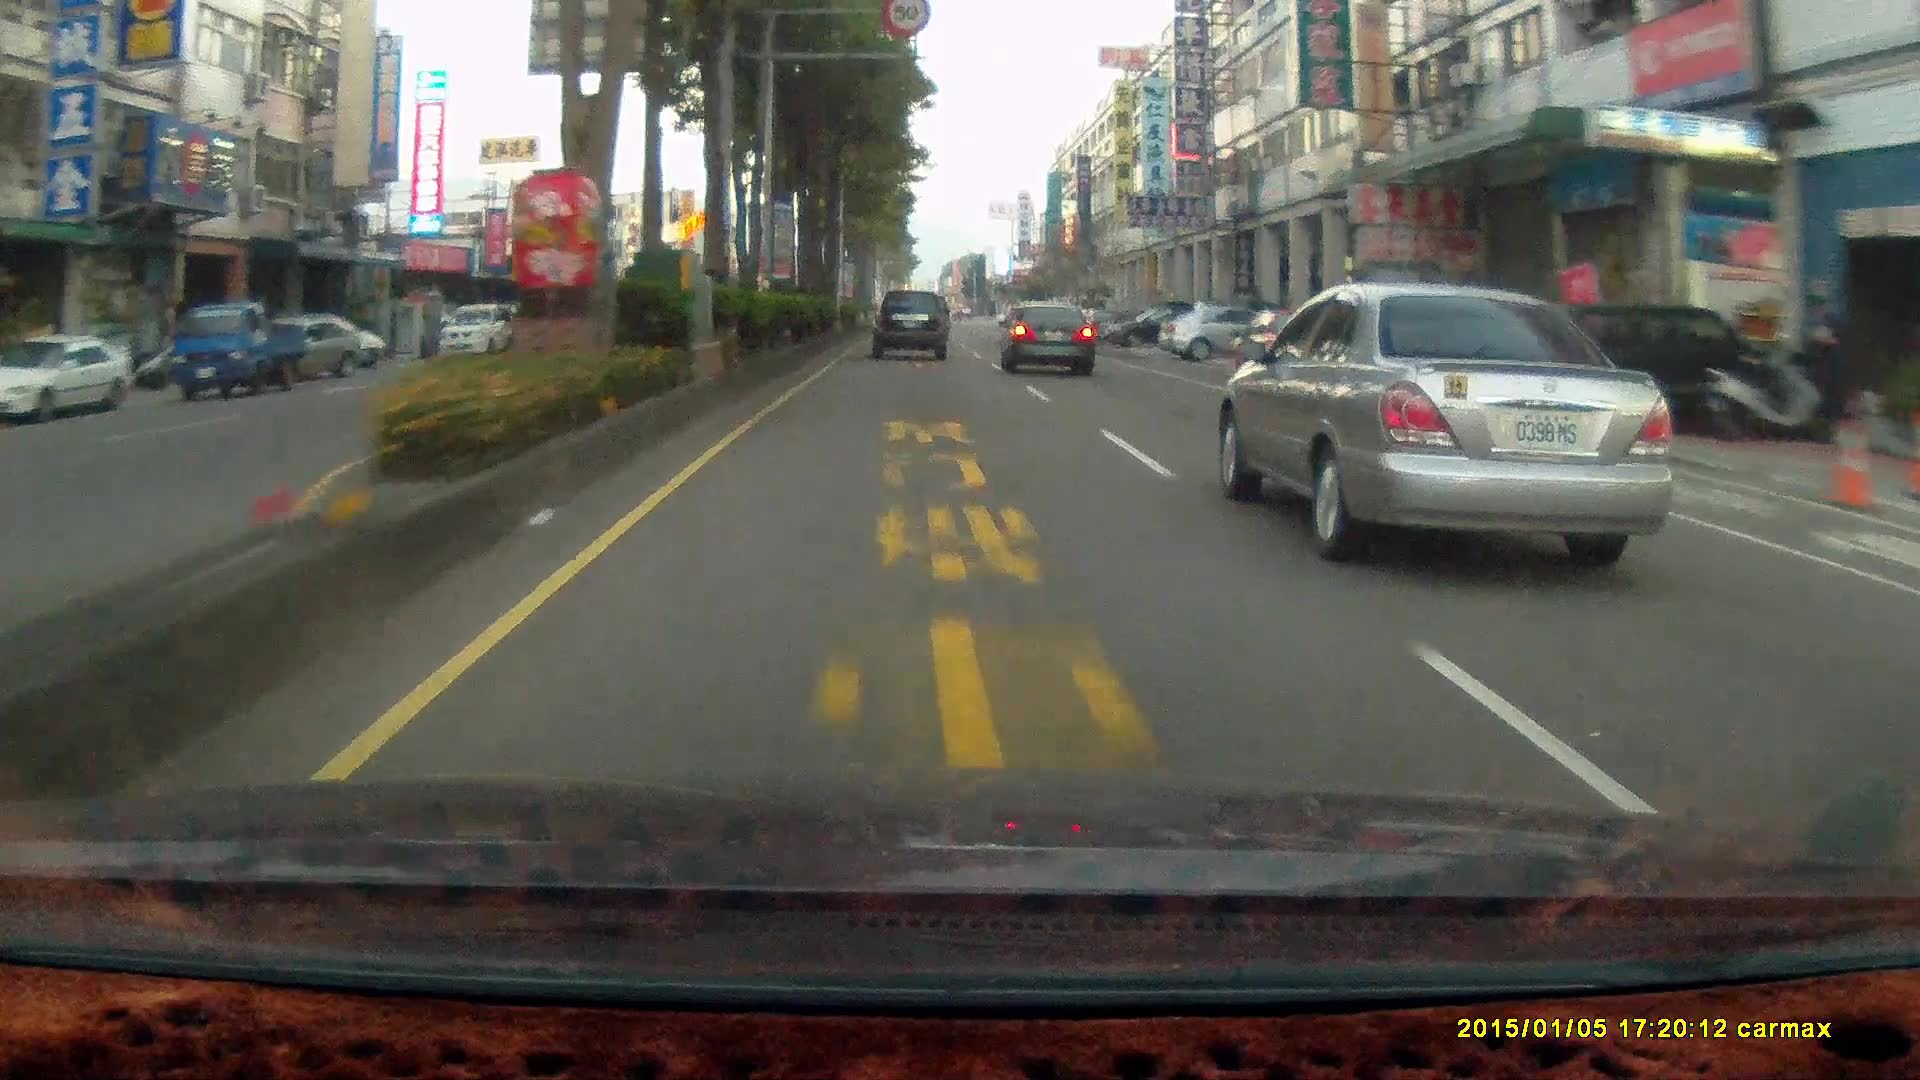vehicle: (1226, 286, 1698, 564), (1505, 297, 1758, 444), (1515, 291, 1760, 436), (167, 298, 306, 397), (173, 305, 314, 398), (0, 331, 133, 425), (1232, 305, 1353, 393), (1246, 311, 1367, 400), (1156, 301, 1298, 361), (237, 315, 361, 378), (996, 301, 1095, 376), (1001, 302, 1098, 377), (870, 289, 952, 364), (870, 287, 951, 357), (1104, 303, 1209, 345), (435, 302, 512, 359)
